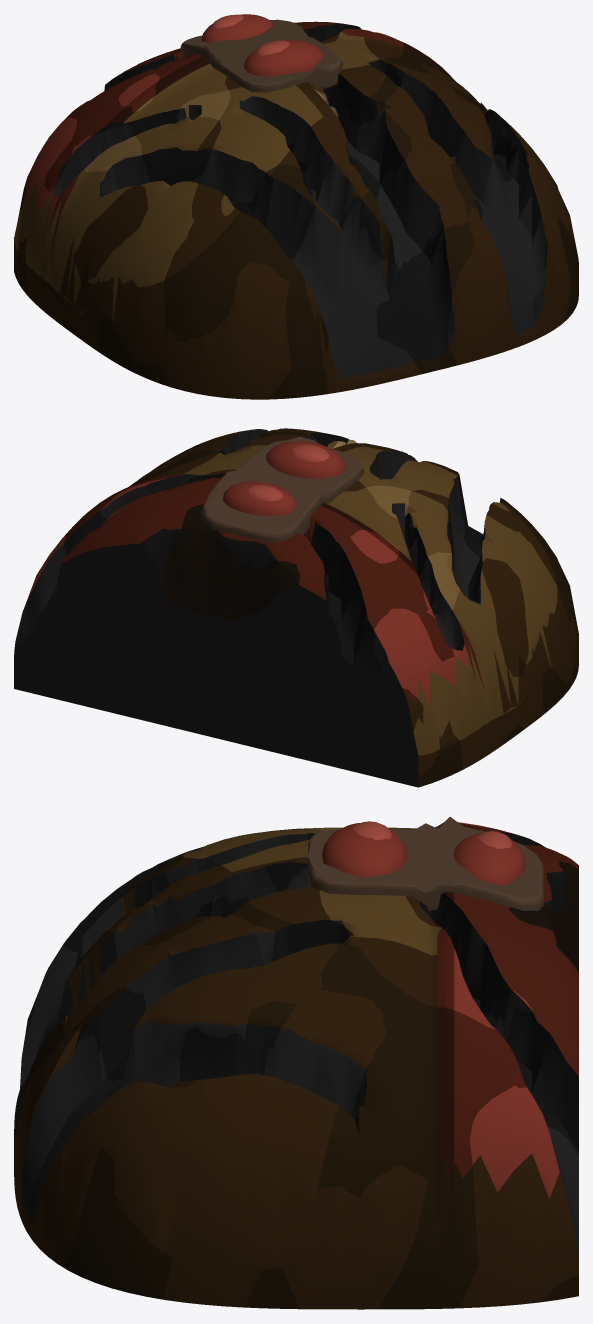
Rendered from dome_cannon_dome_wreck.glb.
3 renders of one model, top to bottom at view 1: azimuth 30°, elevation 25°; view 2: azimuth 150°, elevation 25°; view 3: azimuth 270°, elevation 25°, orthographic. The views are drawn at different scales.
Parts seen in each view (by area): view 1: dome_cannon_dome_wreck; view 2: dome_cannon_dome_wreck; view 3: dome_cannon_dome_wreck.
Boxes of the visible parts, x1,y1,x2,y2 form: dome_cannon_dome_wreck: (14, 14, 578, 399); dome_cannon_dome_wreck: (14, 428, 578, 787); dome_cannon_dome_wreck: (14, 817, 578, 1309).
Size of the model in its own units: 21 by 10.75 by 17.
